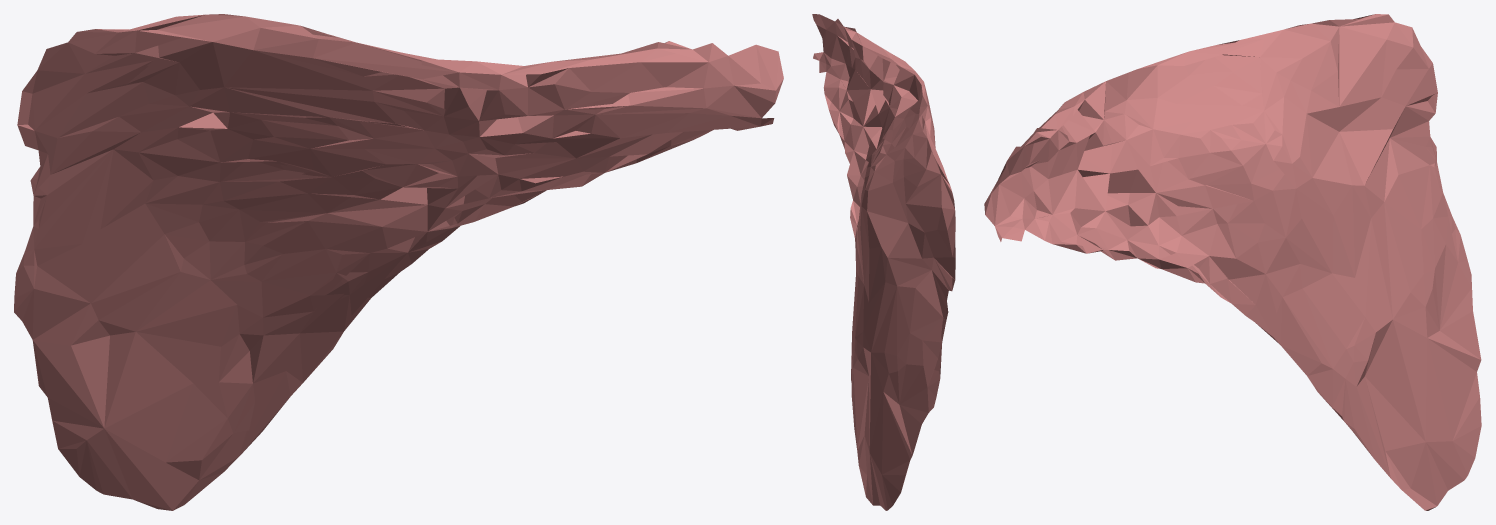
File: Subscapular_muscle.l.glb
3 renders of one model, left to right at view 1: azimuth 30°, elevation 25°; view 2: azimuth 150°, elevation 25°; view 3: azimuth 270°, elevation 25°, orthographic. The views are drawn at different scales.
Visible parts, largest first — view 1: Subscapular_muscle.l; view 2: Subscapular_muscle.l; view 3: Subscapular_muscle.l.
Boxes of the visible parts, x1,y1,x2,y2 form: Subscapular_muscle.l: (14, 14, 783, 510); Subscapular_muscle.l: (812, 14, 955, 510); Subscapular_muscle.l: (984, 14, 1481, 510).
Size of the model in its own units: 0.1035 by 0.1132 by 0.1043.
